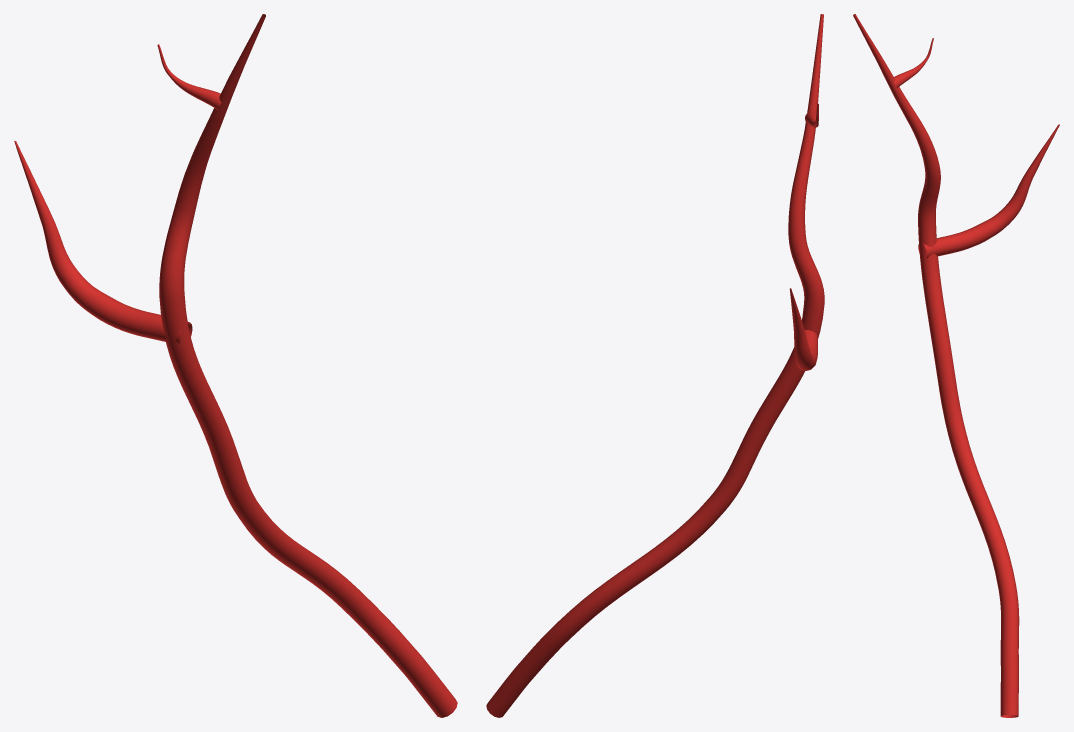
The model's file is circulatorio-anterior-deep-temporal-artery-r.glb.
The picture shows the model from 3 angles, left to right: view 1: azimuth 30°, elevation 25°; view 2: azimuth 150°, elevation 25°; view 3: azimuth 270°, elevation 25°; orthographic projection. The views are drawn at different scales.
Parts seen in each view (by area): view 1: Anterior deep temporal artery.r; view 2: Anterior deep temporal artery.r; view 3: Anterior deep temporal artery.r.
Part boxes in pixels (bbox=[...]): Anterior deep temporal artery.r: bbox=[14, 14, 457, 717]; Anterior deep temporal artery.r: bbox=[486, 14, 824, 717]; Anterior deep temporal artery.r: bbox=[853, 14, 1059, 717].
Size of the model in its own units: 0.0222 by 0.0443 by 0.0137.
